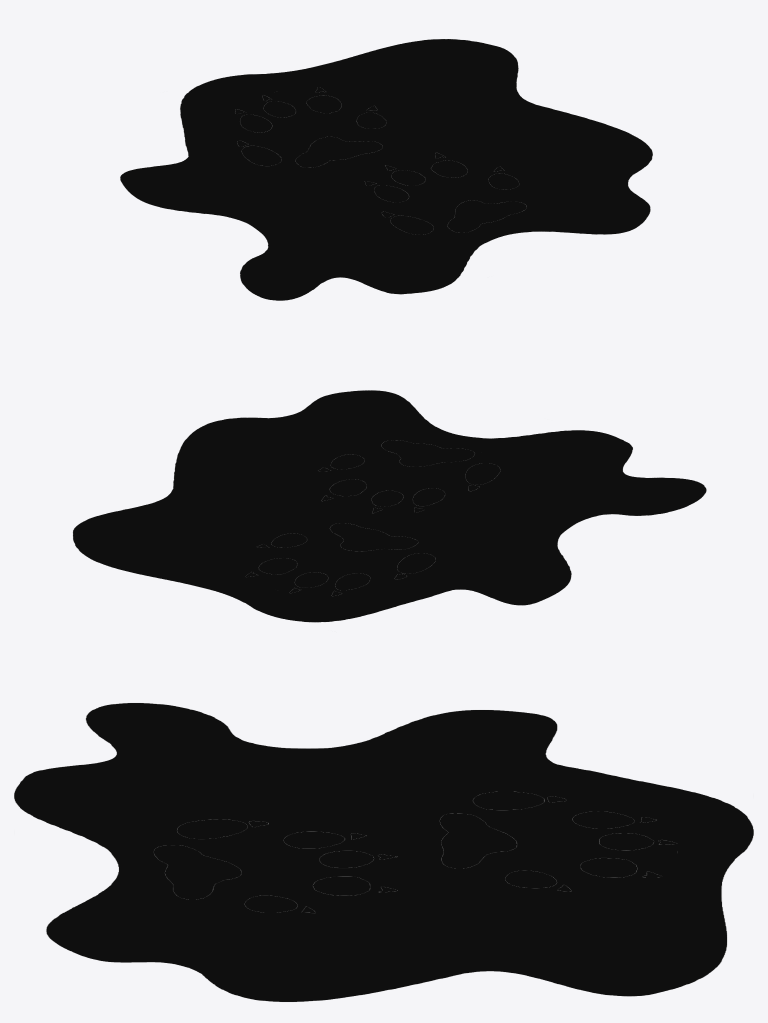
Rendered from AnimalPaws.gltf.
The picture shows the model from 3 angles, top to bottom: view 1: azimuth 30°, elevation 25°; view 2: azimuth 150°, elevation 25°; view 3: azimuth 270°, elevation 25°; orthographic projection. The views are drawn at different scales.
Visible parts, largest first — view 1: Plane.001, Plane.003, Plane; view 2: Plane.001, Plane.003, Plane; view 3: Plane.001, Plane.003, Plane.
Part boxes in pixels (<box>): Plane.001: <box>120,39,652,300</box>; Plane.003: <box>120,39,652,299</box>; Plane: <box>235,87,526,234</box>; Plane.001: <box>73,390,705,622</box>; Plane.003: <box>73,390,706,620</box>; Plane: <box>246,440,500,596</box>; Plane.001: <box>14,703,753,1001</box>; Plane.003: <box>14,703,753,1001</box>; Plane: <box>153,791,677,912</box>.
Size of the model in its own units: 2 by 0.000396 by 2.
4 materials, 4 textured.
